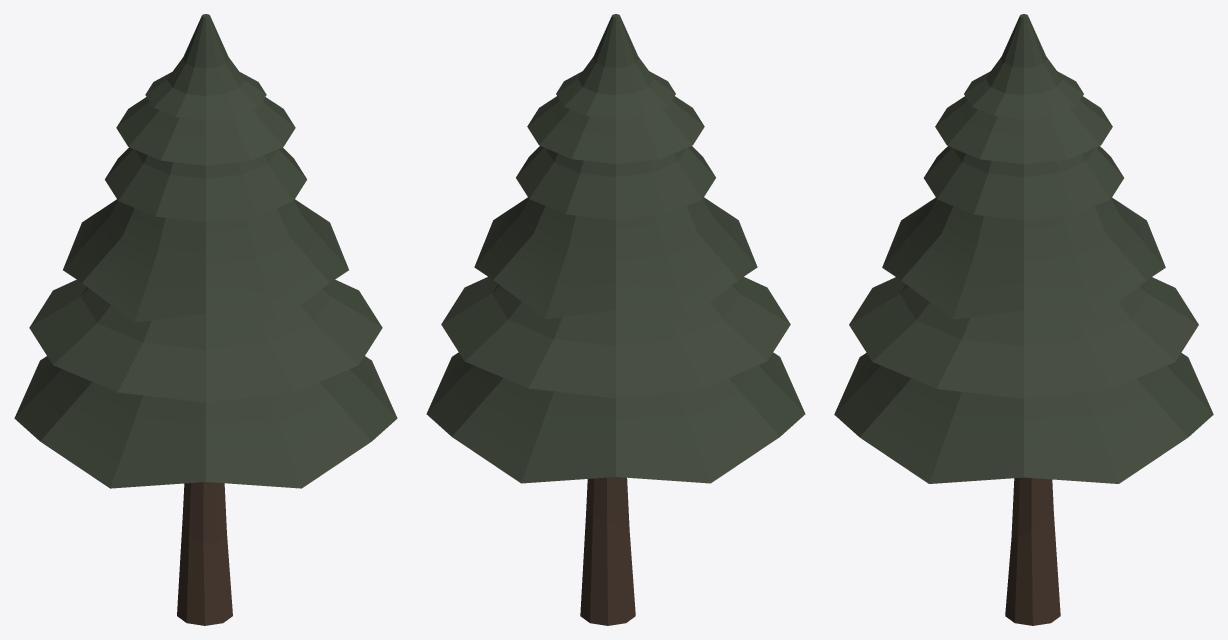
File: tree_pine3.fbx
The picture shows the model from 3 angles, left to right: view 1: azimuth 30°, elevation 25°; view 2: azimuth 150°, elevation 25°; view 3: azimuth 270°, elevation 25°; orthographic projection.
Parts seen in each view (by area): view 1: pineleaves1, treepine3; view 2: pineleaves1, treepine3; view 3: pineleaves1, treepine3.
Part boxes in pixels (bbox=[...]): pineleaves1: bbox=[14, 14, 397, 488]; treepine3: bbox=[177, 482, 232, 625]; pineleaves1: bbox=[426, 14, 805, 483]; treepine3: bbox=[580, 477, 635, 625]; pineleaves1: bbox=[834, 14, 1213, 483]; treepine3: bbox=[1005, 477, 1060, 625].
Size of the model in its own units: 5.59 by 9.69 by 5.59.
